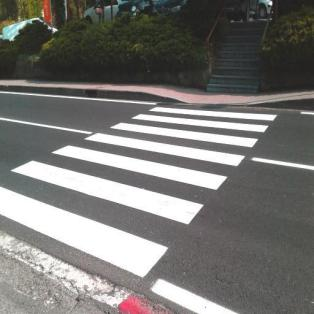Paso de Cebra: (5, 144, 232, 228), (124, 104, 284, 135)
